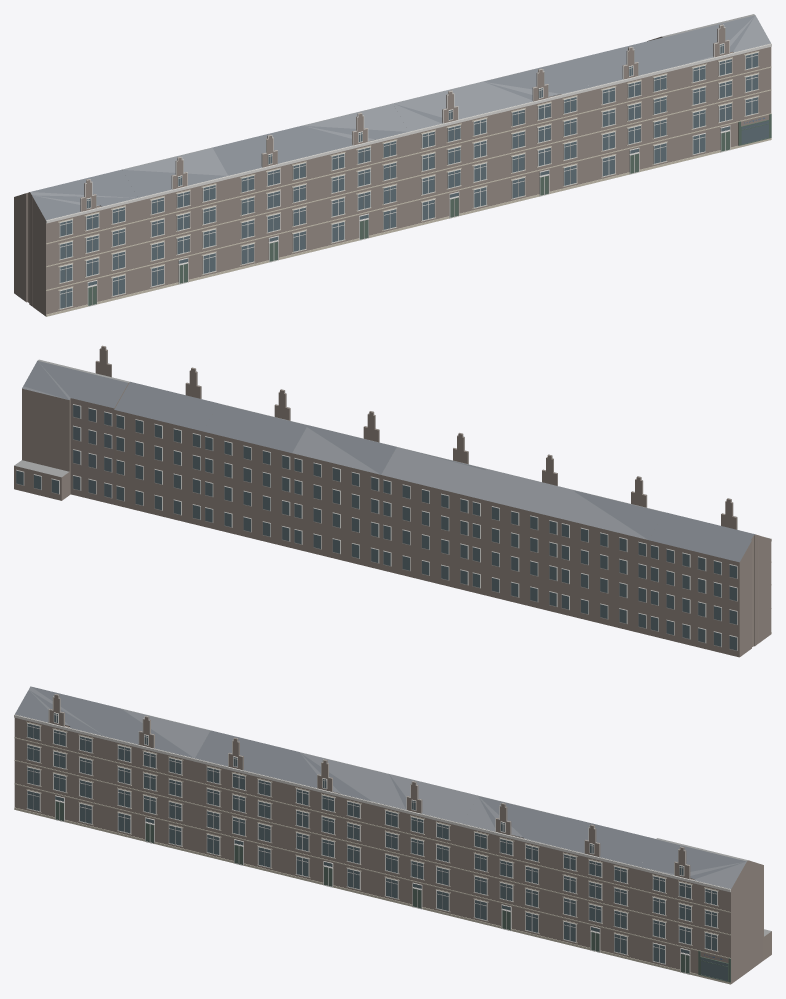
Rendered from chunk-face-marnix-124-138.glb.
The picture shows the model from 3 angles, top to bottom: view 1: azimuth 30°, elevation 25°; view 2: azimuth 150°, elevation 25°; view 3: azimuth 330°, elevation 25°; orthographic projection.
Visible parts, largest first — view 1: face-marnix-124-138; view 2: face-marnix-124-138; view 3: face-marnix-124-138.
Boxes of the visible parts, x1,y1,x2,y2 form: face-marnix-124-138: (14, 14, 771, 316); face-marnix-124-138: (14, 345, 771, 657); face-marnix-124-138: (14, 686, 771, 984).
Size of the model in its own units: 104 by 17.46 by 10.49.
